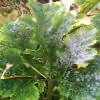Squash Powdery mildew leaf: (25, 0, 78, 67), (54, 25, 98, 70), (0, 15, 29, 52)
